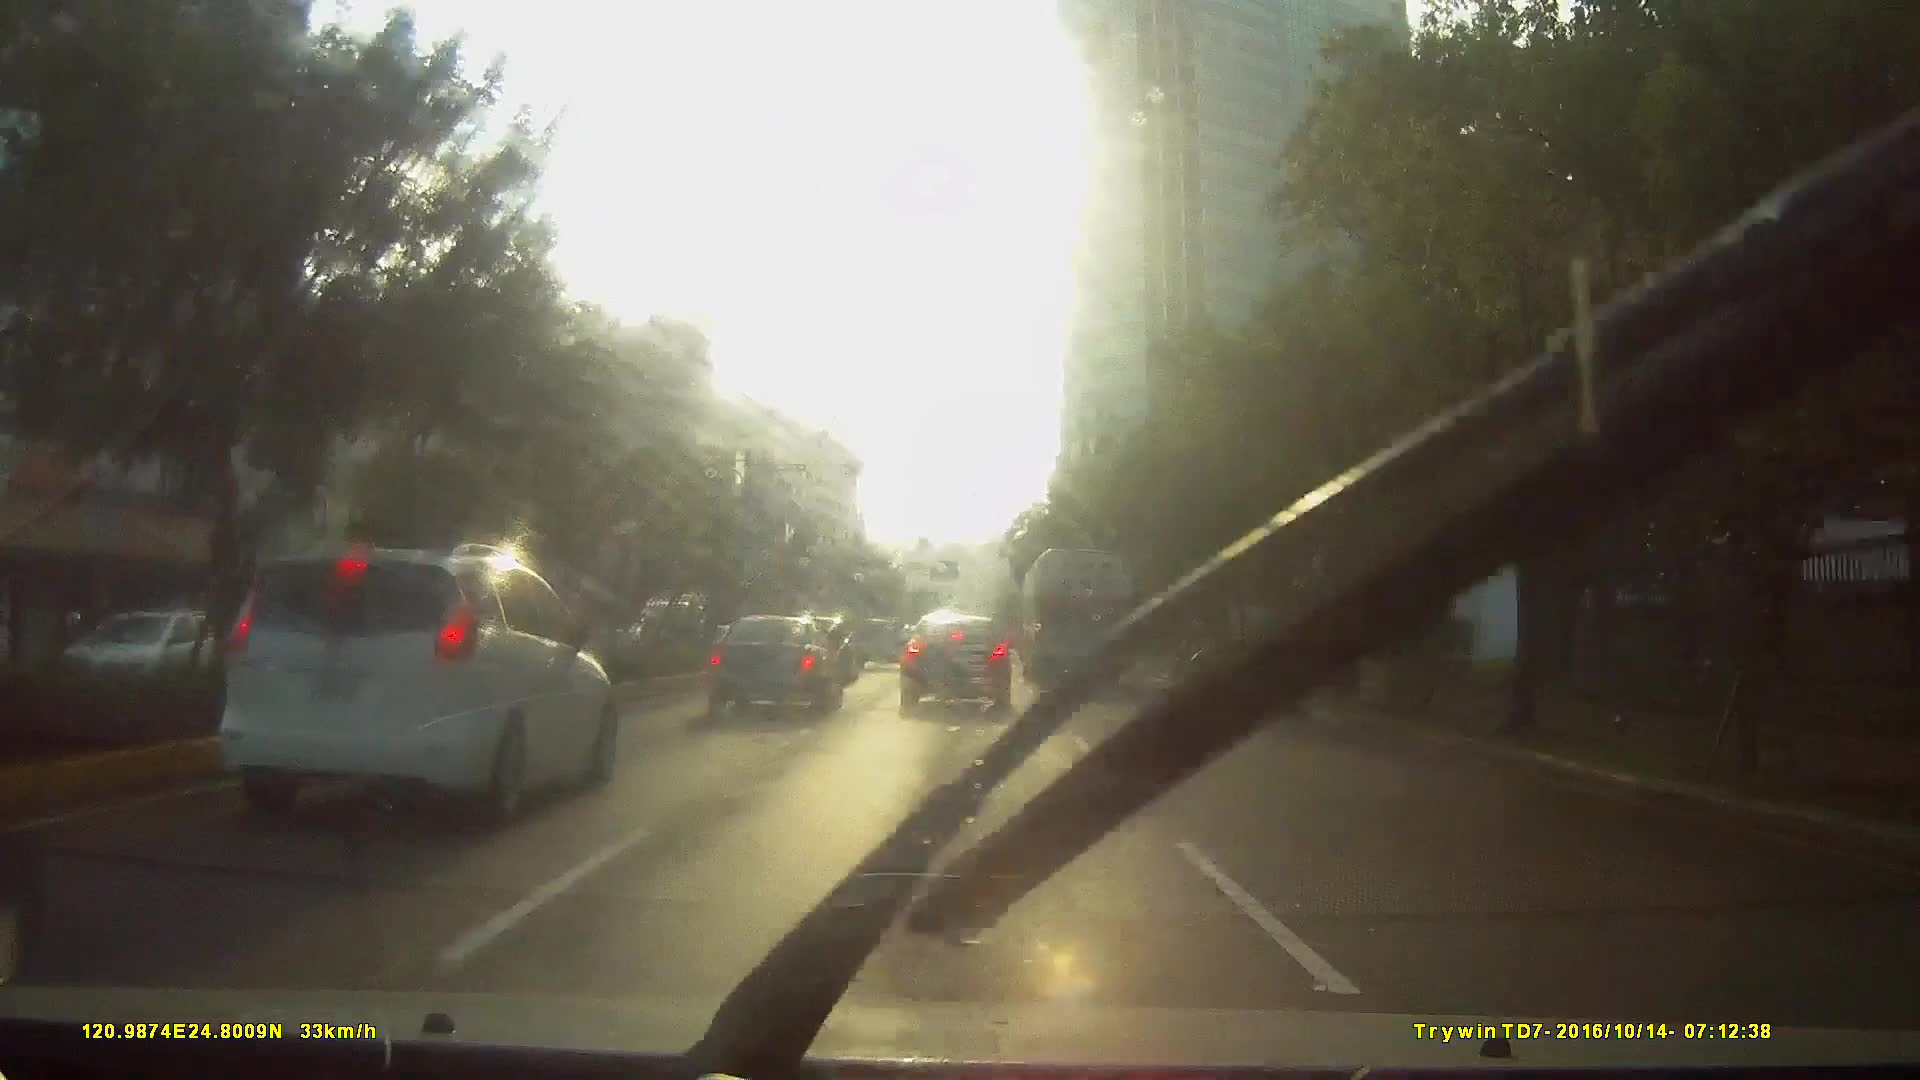vehicle: (251, 556, 684, 868), (191, 541, 628, 837), (1017, 545, 1138, 691), (699, 615, 845, 721), (897, 607, 1014, 717), (626, 591, 703, 662), (849, 615, 909, 676)
